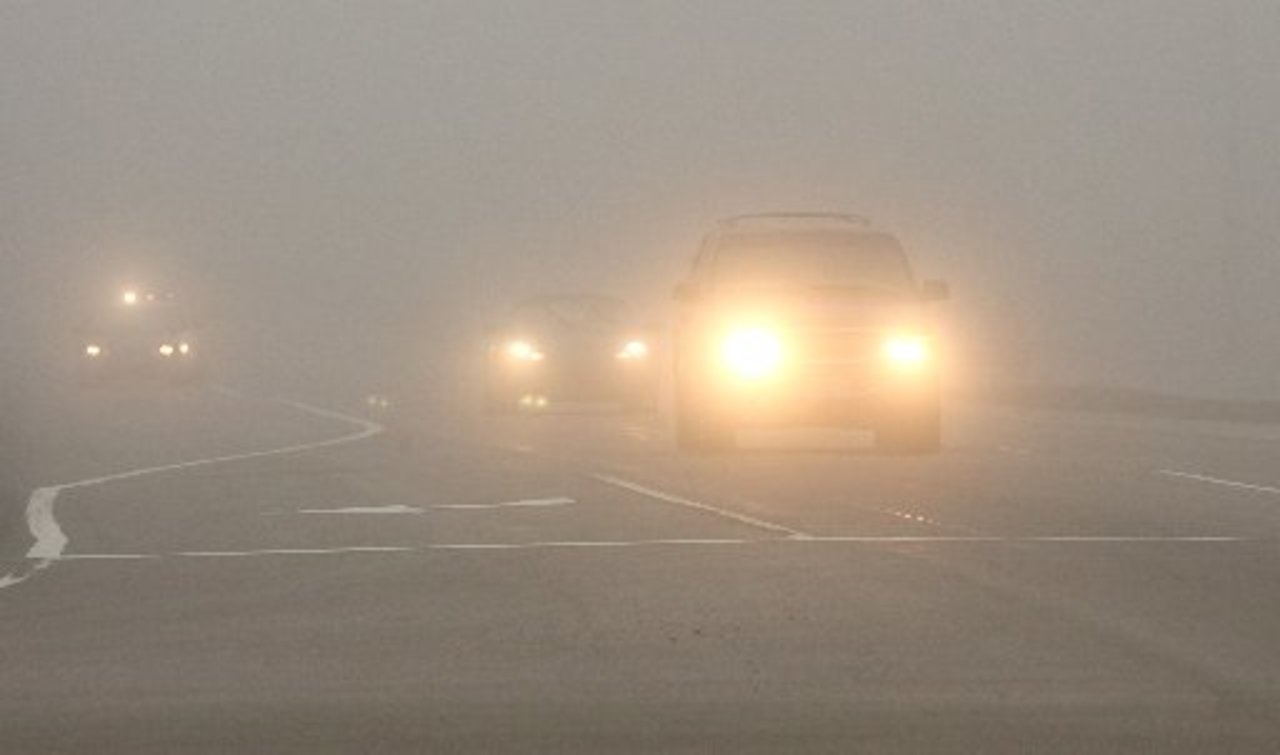car: (677, 212, 953, 456), (486, 296, 663, 415), (82, 302, 175, 374), (160, 300, 198, 381)
